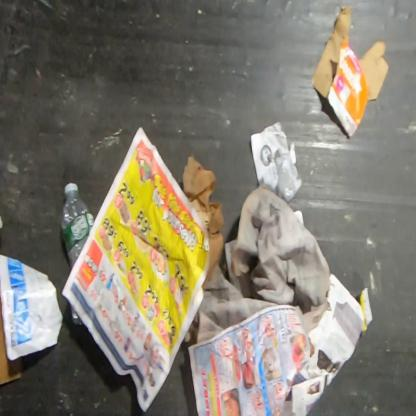cardboard: (290, 272, 365, 416), (310, 6, 390, 138), (181, 152, 226, 292), (359, 286, 374, 334)
rigid_plastic: (60, 181, 95, 272), (70, 302, 84, 326)
soft_plastic: (274, 150, 300, 204)
